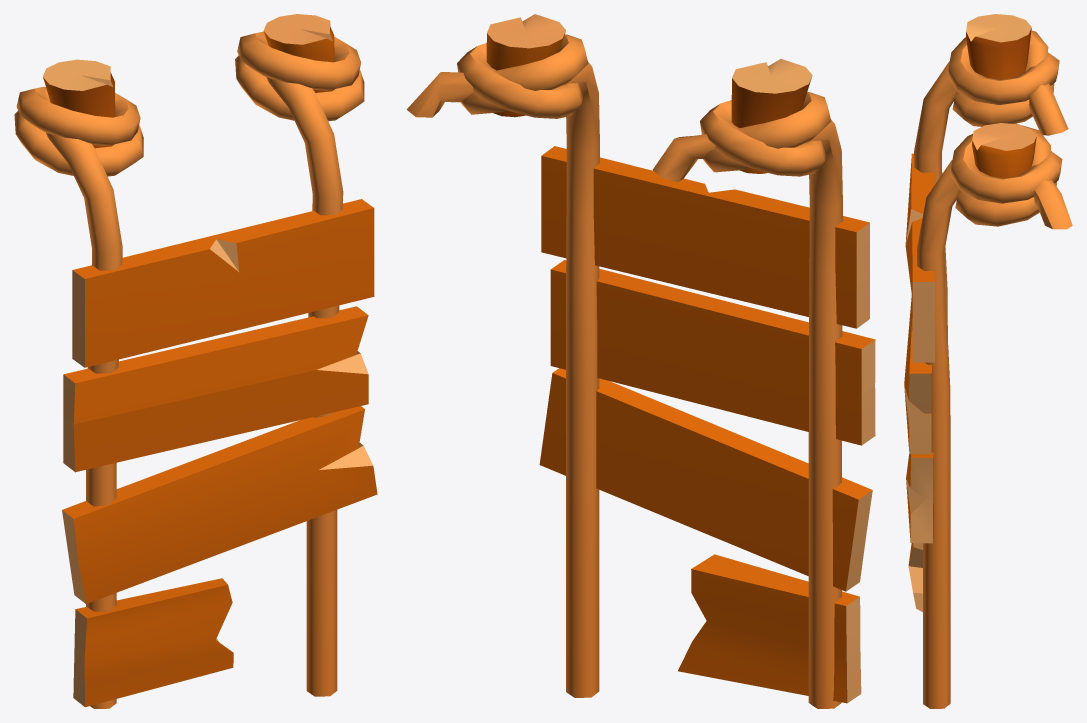
File: Props_Broken_Rope_Bridge_01.fbx
3 renders of one model, left to right at view 1: azimuth 30°, elevation 25°; view 2: azimuth 150°, elevation 25°; view 3: azimuth 270°, elevation 25°, orthographic. The views are drawn at different scales.
Visible parts, largest first — view 1: Props_Broken_Rope_Bridge_01; view 2: Props_Broken_Rope_Bridge_01; view 3: Props_Broken_Rope_Bridge_01.
Part boxes in pixels (box(x1,y1,x2,y2)): Props_Broken_Rope_Bridge_01: box(14, 14, 377, 708); Props_Broken_Rope_Bridge_01: box(406, 14, 875, 708); Props_Broken_Rope_Bridge_01: box(904, 14, 1072, 708).
Size of the model in its own units: 127 by 222 by 58.1.
